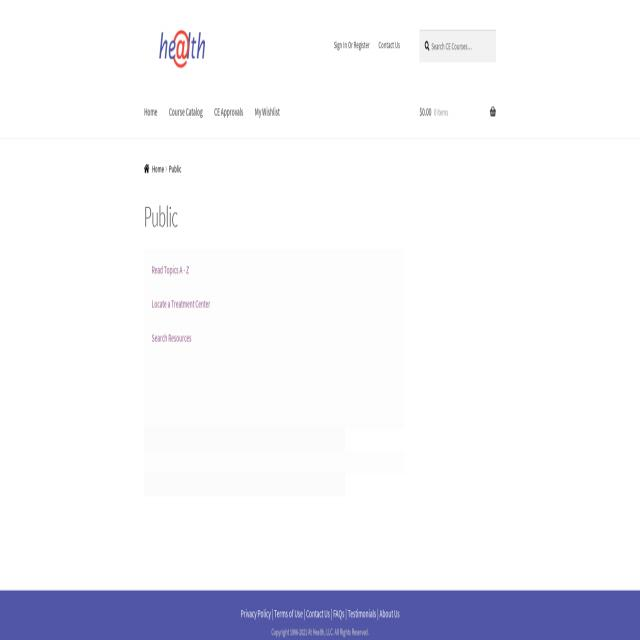button: (144, 30, 220, 68), (164, 84, 208, 139), (209, 84, 249, 139), (249, 84, 285, 139), (139, 84, 163, 139), (330, 30, 374, 60), (374, 30, 404, 60), (484, 90, 502, 134)
field: (419, 30, 496, 62)
